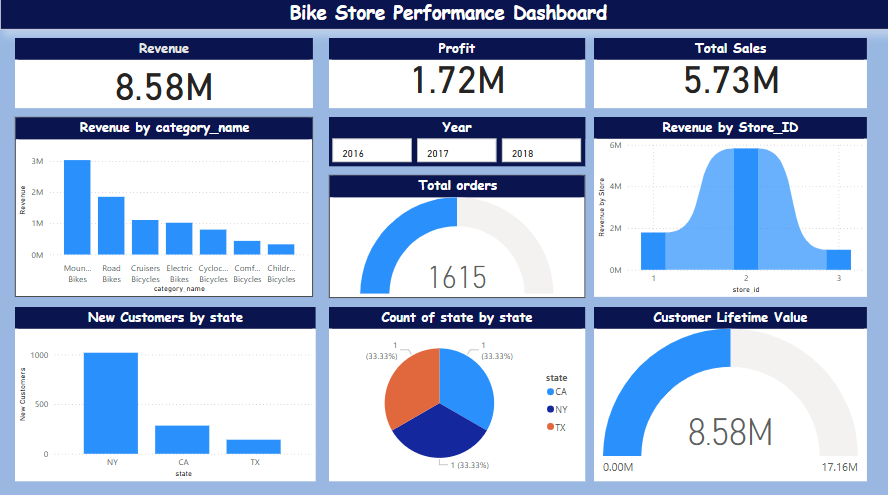

This screenshot's page, from the dashboard's own definition file:
{"tool":"powerbi","page":{"name":"Page 2","canvas":[1280,720],"ordinal":1},"visuals":[{"type":"textbox","box":[0,0,1280.2,50.4],"z":0},{"type":"card","title":"Profit","fields":{"Values":["sales order_items.Profit"]},"box":[473.8,61.9,368.6,100.8],"z":1000},{"type":"card","title":"Revenue","fields":{"Values":["sales order_items.Revenue"]},"box":[21.6,61.9,429.1,100.8],"z":2000},{"type":"card","title":"Total Sales","fields":{"Values":["sales customers.Total Sales by Customer"]},"box":[855.4,61.9,393.1,100.8],"z":3000},{"type":"lineStackedColumnComboChart","fields":{"Category":["sales customers.state"],"Y":["sales orders.New Customers"]},"box":[21.6,449.3,433.4,250.6],"z":4000},{"type":"pieChart","fields":{"Y":["Count(sales customers.state)"],"Category":["sales customers.state"]},"box":[473.8,449.3,368.6,250.6],"z":5000},{"type":"advancedSlicerVisual","fields":{"Values":["sales orders.order_date.Variation.Date Hierarchy.Year"]},"box":[473.8,175.7,368.6,70.6],"z":6000},{"type":"lineStackedColumnComboChart","fields":{"Category":["production categories.category_name"],"Y":["sales order_items.Revenue"]},"box":[21.6,175.7,429.1,259.2],"z":7000},{"type":"ribbonChart","title":"Revenue by Store_ID","fields":{"Category":["sales staffs.store_id"],"Y":["sales order_items.Revenue by Store"]},"box":[855.4,175.7,393.1,259.2],"z":8000},{"type":"gauge","fields":{"Y":["sales orders.Total orders"]},"box":[473.8,259.2,368.6,177.1],"z":9000},{"type":"gauge","title":"Customer Lifetime Value","fields":{"Y":["sales order_items.Total Sales"]},"box":[855.4,449.3,393.1,250.6],"z":10000}]}

Visuals, with their boxes in screenshot pixels (x1, y1, x2, y2), scaled from the page's 1280x720 canvas onto the 888x495 screenshot:
textbox: [left=0, top=0, right=887, bottom=35]
"Profit" card: [left=329, top=43, right=584, bottom=112]
"Revenue" card: [left=15, top=43, right=313, bottom=112]
"Total Sales" card: [left=593, top=43, right=866, bottom=112]
lineStackedColumnComboChart - sales customers.state x sales orders.New Customers: [left=15, top=309, right=316, bottom=481]
pieChart - Count(sales customers.state) x sales customers.state: [left=329, top=309, right=584, bottom=481]
advancedSlicerVisual - sales orders.order_date.Variation.Date Hierarchy.Year: [left=329, top=121, right=584, bottom=169]
lineStackedColumnComboChart - production categories.category_name x sales order_items.Revenue: [left=15, top=121, right=313, bottom=299]
"Revenue by Store_ID" ribbonChart: [left=593, top=121, right=866, bottom=299]
gauge - sales orders.Total orders: [left=329, top=178, right=584, bottom=300]
"Customer Lifetime Value" gauge: [left=593, top=309, right=866, bottom=481]
